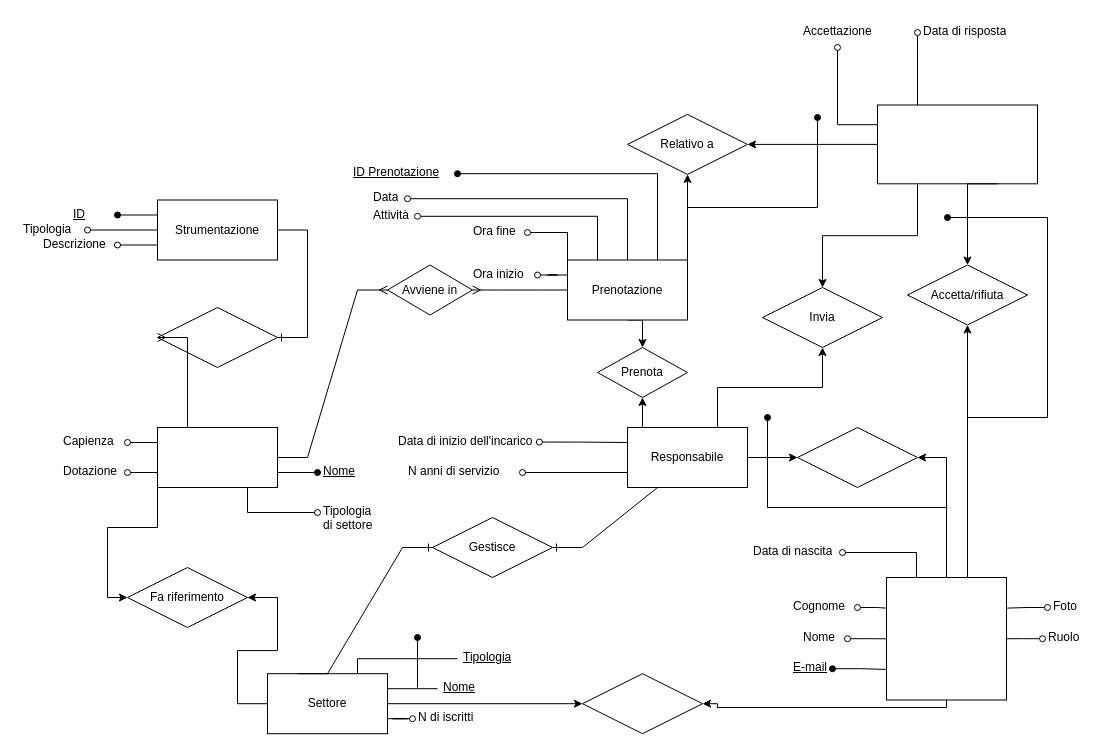
The diagram is 1109 pixels wide and 754 high, and some of its shapes have lost their labels. The box of each missing label's shape, as (x1, y1, x2, y2) in pixels:
Invito: (876, 104, 1038, 184)
Iscritto: (886, 576, 1006, 700)
Iscritto a: (582, 673, 702, 734)
Sala prove: (156, 426, 278, 488)
Sta in: (156, 306, 278, 368)
è un: (796, 426, 918, 488)
